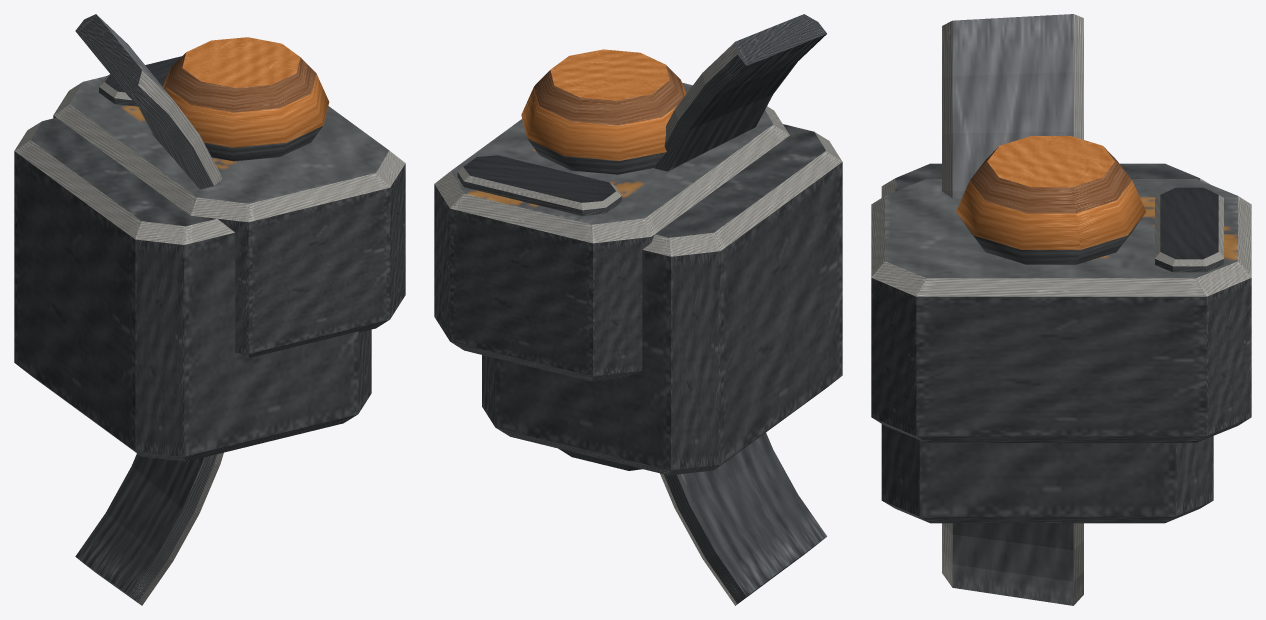
File: Nuclear.glb
The picture shows the model from 3 angles, left to right: view 1: azimuth 30°, elevation 25°; view 2: azimuth 150°, elevation 25°; view 3: azimuth 270°, elevation 25°; orthographic projection. The views are drawn at different scales.
Visible parts, largest first — view 1: Nuclear; view 2: Nuclear; view 3: Nuclear.
Part boxes in pixels (x1=…): Nuclear: x1=14, y1=14, x2=405, y2=605; Nuclear: x1=434, y1=14, x2=842, y2=605; Nuclear: x1=871, y1=14, x2=1251, y2=605.
Bounding box in the file's own units: 0.19 × 0.3775 × 0.22.
1 material, 1 textured.
